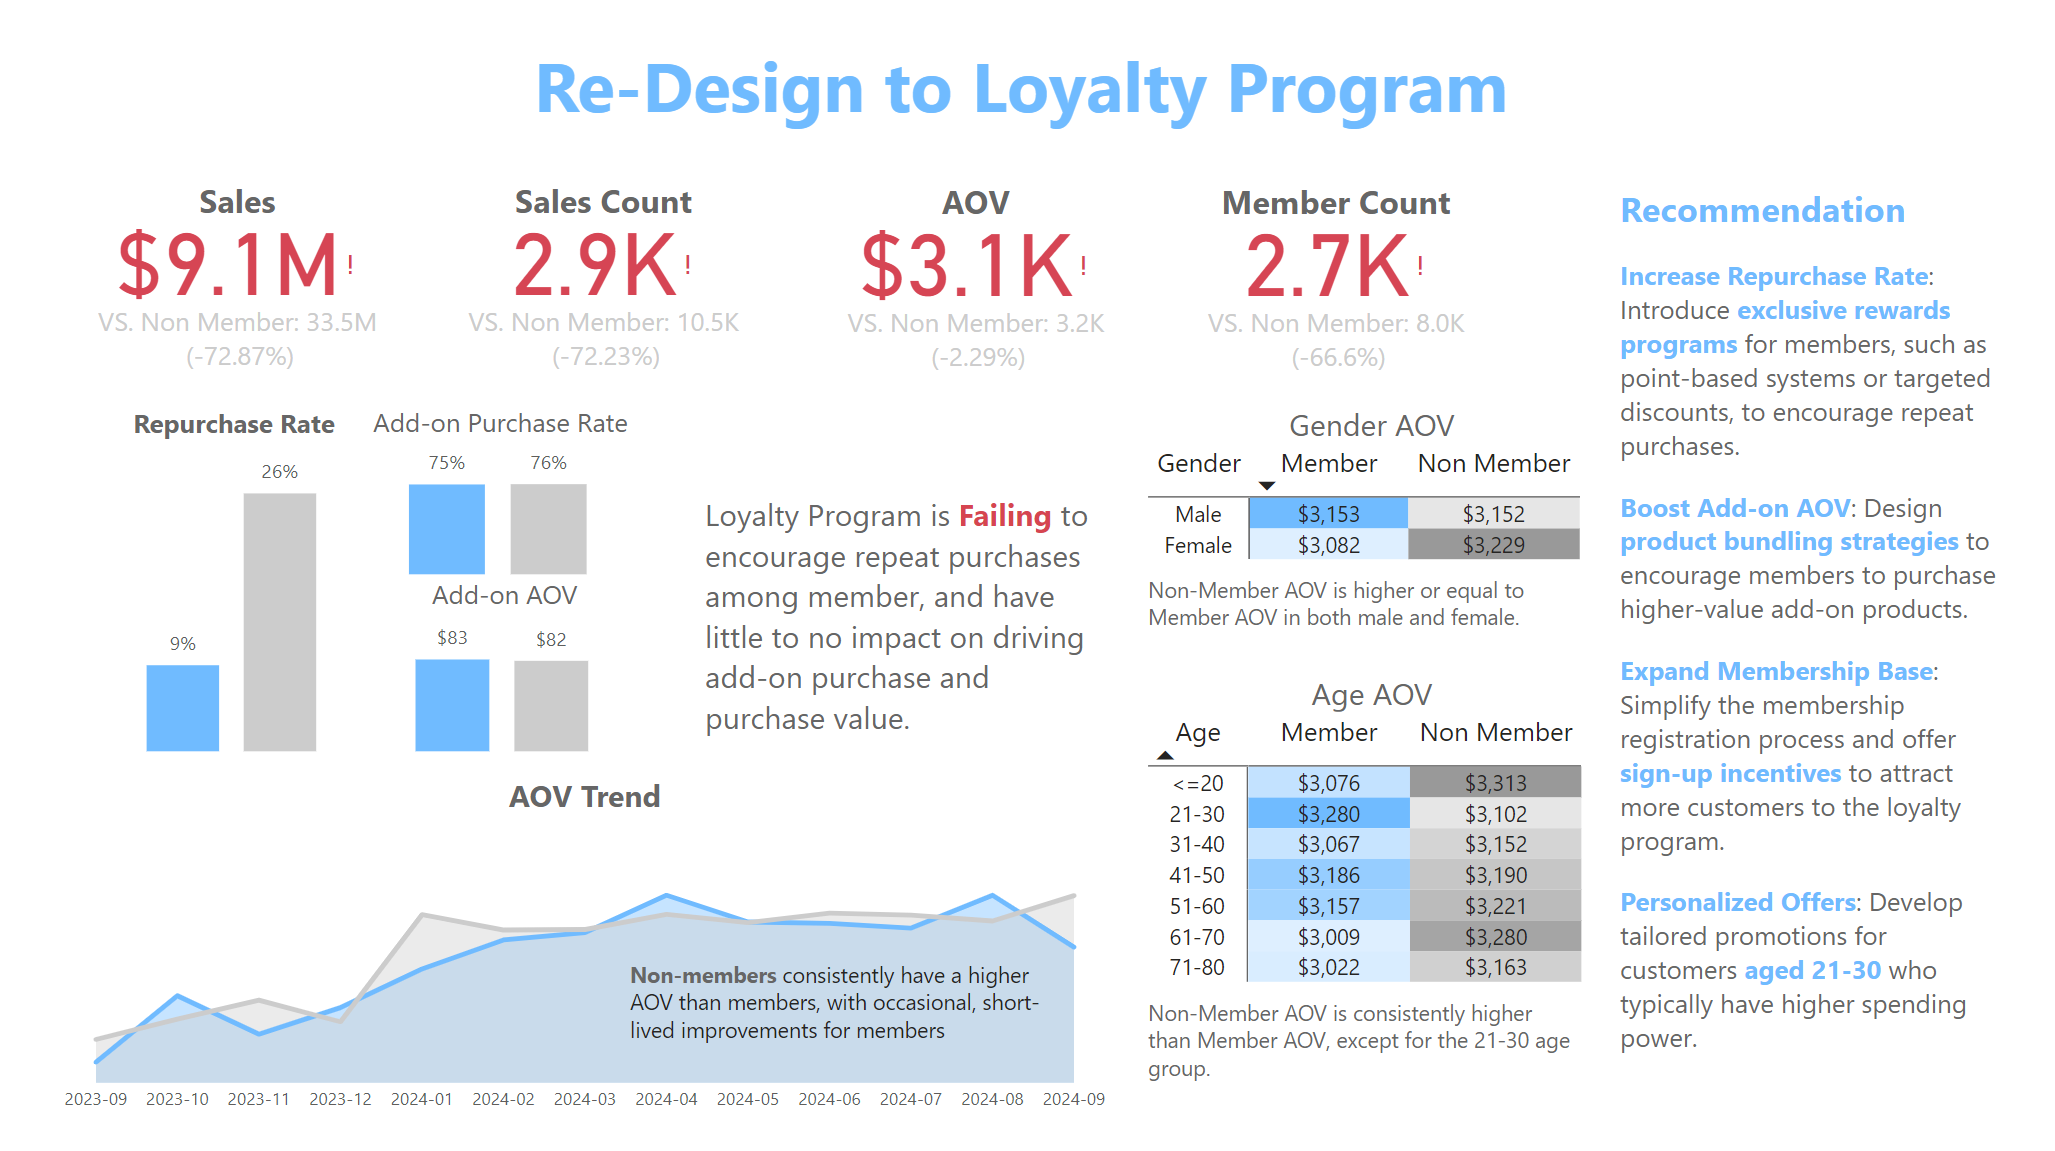

What the dashboard file says about the page in this screenshot:
{"tool":"powerbi","page":{"name":"Loyalty Program","canvas":[1280,720],"ordinal":1},"visuals":[{"type":"kpi","title":"Sales","fields":{"Indicator":["Sum(loyalty_member_sales.sales)"],"Goal":["Sum(loyalty_nonmember_sales.sales)"],"TrendLine":["loyalty_trend.month"]},"box":[53.5,113.8,194.8,128],"z":0},{"type":"kpi","title":"Sales Count","fields":{"Indicator":["Sum(loyalty_member_sales.sales_count)"],"Goal":["Sum(loyalty_nonmember_sales.sales_count)"],"TrendLine":["loyalty_trend.month"]},"box":[281.5,113.8,191.3,128.7],"z":1000},{"type":"kpi","title":"AOV","fields":{"Indicator":["Sum(loyalty_member_sales.aov)"],"Goal":["Sum(loyalty_nonmember_sales.aov)"],"TrendLine":["loyalty_trend.month"]},"box":[506,114.5,202.7,128],"z":2000},{"type":"pivotTable","title":"Age AOV","fields":{"Rows":["loyalty_sales_age (2).age_group"],"Values":["Sum(loyalty_sales_age_pivot.Member)","Sum(loyalty_sales_age_pivot.Non Member)"]},"box":[708.8,420.7,287,207.8],"z":3000},{"type":"pivotTable","title":"Gender AOV","fields":{"Rows":["loyalty_sales_gender (2).gender"],"Values":["Sum(loyalty_sales_gender_pivot.Member)","Sum(loyalty_sales_gender_pivot.Non Member)"]},"box":[708.8,254.3,287,110.7],"z":4000},{"type":"clusteredColumnChart","title":"Repurchase Rate","fields":{"Category":["loyalty_repurchase.loyaltymember"],"Y":["Sum(loyalty_repurchase.repurchase_rate)"]},"box":[59.3,255.5,178.1,219.6],"z":5000},{"type":"clusteredColumnChart","title":"Add-on Purchase Rate","fields":{"Category":["loyalty_addon.loyaltymember"],"Y":["Sum(loyalty_addon.addon_purchase_rate)"]},"box":[220.5,254.9,186.2,110.7],"z":6000},{"type":"clusteredColumnChart","title":"Add-on AOV","fields":{"Category":["loyalty_addon.loyaltymember"],"Y":["Sum(loyalty_addon.addon_aov)"]},"box":[225.5,361.3,181.2,113.8],"z":7000},{"type":"kpi","title":"Member Count","fields":{"Indicator":["Sum(loyalty_member_sales.member)"],"Goal":["Sum(loyalty_nonmember_sales.nonmember)"],"TrendLine":["loyalty_trend.month"]},"box":[741.8,114.5,177.1,128],"z":8000},{"type":"areaChart","title":"AOV Trend","fields":{"Category":["loyalty_trend.month"],"Y":["Sum(loyalty_trend.member_aov)","Sum(loyalty_trend.non_member_aov)"]},"box":[47.1,485.1,659.7,195.1],"z":9000},{"type":"textbox","box":[96,22.8,1078.8,73.2],"z":10000},{"type":"textbox","box":[1000.8,113.9,249.3,587.6],"z":11000},{"type":"textbox","box":[434.8,304.9,248.7,165.2],"z":12000},{"type":"textbox","box":[396.1,575,278.1,63.3],"z":13000},{"type":"textbox","box":[708.8,355.1,275.3,65.6],"z":14000},{"type":"textbox","box":[708.8,616.7,275.3,91.5],"z":15000}]}

Visuals, with their boxes in screenshot pixels (x1, y1, x2, y2), scaled from the page's 1280x720 canvas onto the 2055x1151 screenshot:
"Sales" kpi: [left=86, top=182, right=399, bottom=387]
"Sales Count" kpi: [left=452, top=182, right=759, bottom=388]
"AOV" kpi: [left=812, top=183, right=1138, bottom=388]
"Age AOV" pivotTable: [left=1138, top=673, right=1599, bottom=1005]
"Gender AOV" pivotTable: [left=1138, top=407, right=1599, bottom=583]
"Repurchase Rate" clusteredColumnChart: [left=95, top=408, right=381, bottom=760]
"Add-on Purchase Rate" clusteredColumnChart: [left=354, top=407, right=653, bottom=584]
"Add-on AOV" clusteredColumnChart: [left=362, top=578, right=653, bottom=760]
"Member Count" kpi: [left=1191, top=183, right=1475, bottom=388]
"AOV Trend" areaChart: [left=76, top=775, right=1135, bottom=1087]
textbox: [left=154, top=36, right=1886, bottom=153]
textbox: [left=1607, top=182, right=2007, bottom=1121]
textbox: [left=698, top=487, right=1097, bottom=752]
textbox: [left=636, top=919, right=1082, bottom=1020]
textbox: [left=1138, top=568, right=1580, bottom=673]
textbox: [left=1138, top=986, right=1580, bottom=1132]
